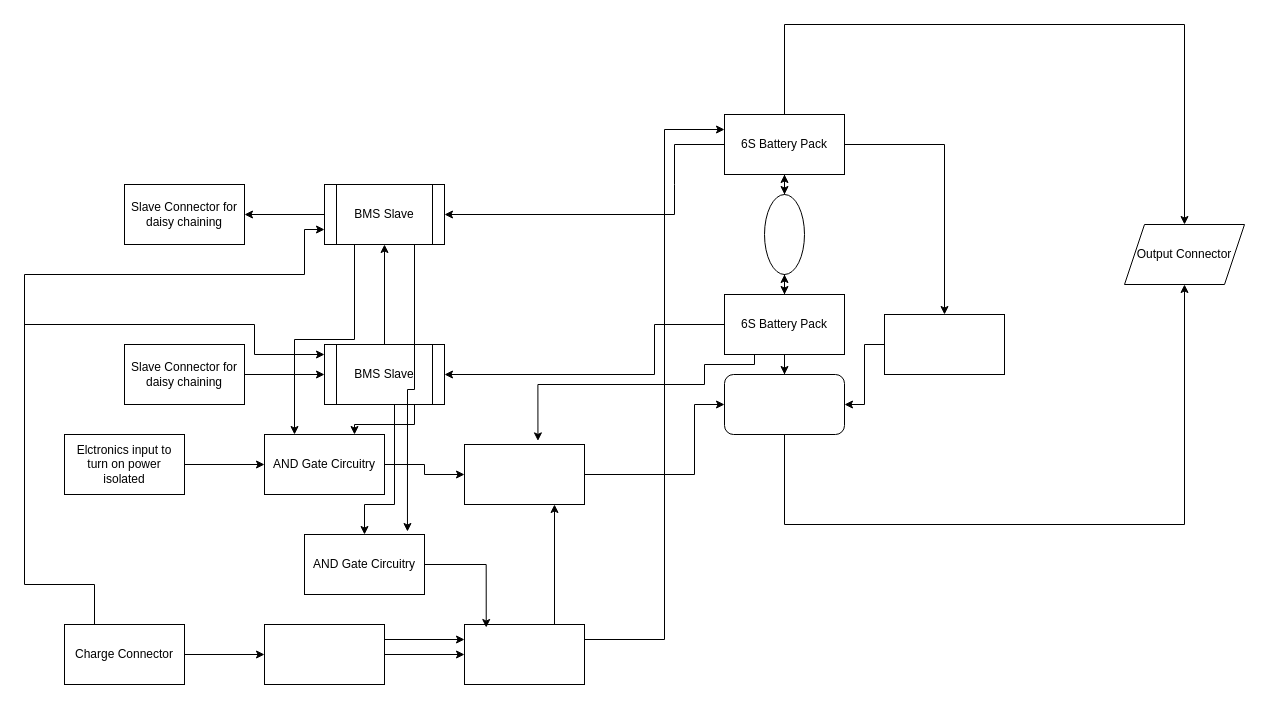
The diagram is 1262 pixels wide and 702 high, and some of its shapes have lost their labels. Here are the shapes that lost their labels. From the top down, the centre of each, then its label:
At point 784,234: "Fuse".
At point 944,344: "Resistor".
At point 784,404: "Contactor".
At point 524,474: "SPDT Relay".
At point 324,654: "CC/CV buck converter".
At point 524,654: "DPST Normally open".
